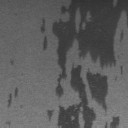red iron: (46, 0, 128, 128), (40, 18, 48, 50), (7, 87, 18, 108), (105, 116, 119, 128), (10, 60, 14, 64)
